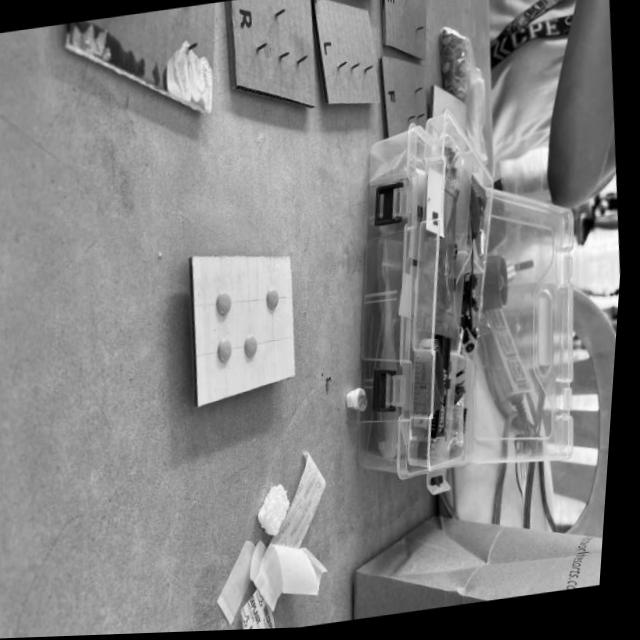braiile: (197, 259, 300, 405)
